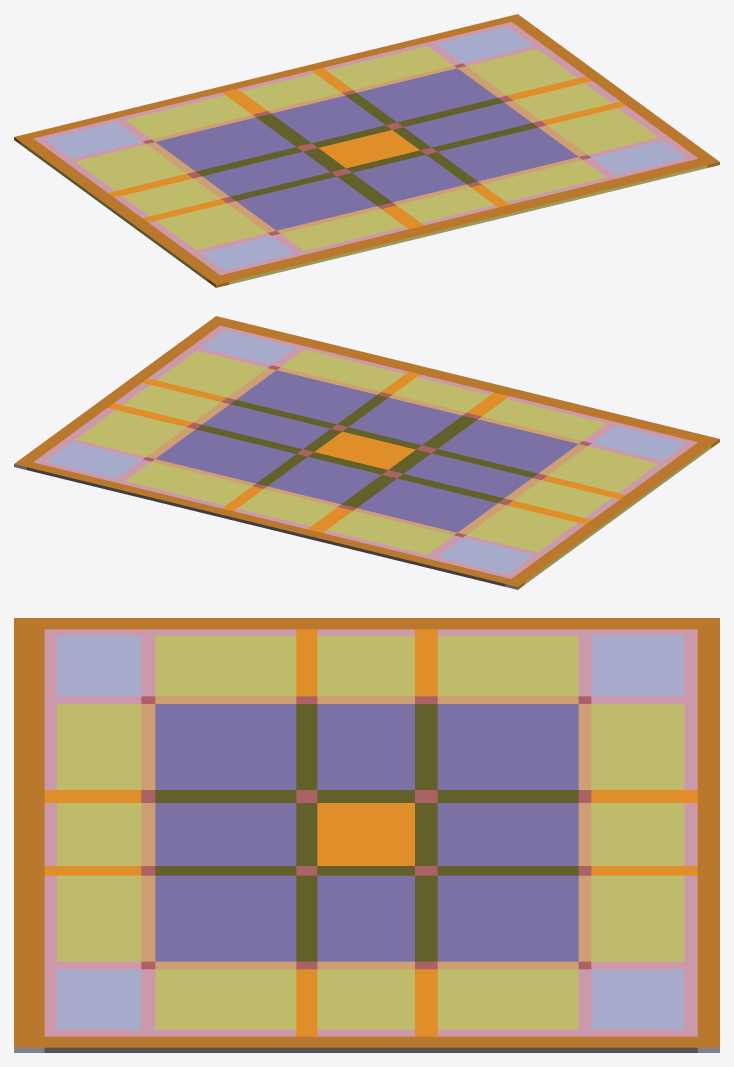
Rendered from carpet.FBX.
3 renders of one model, top to bottom at view 1: azimuth 30°, elevation 25°; view 2: azimuth 150°, elevation 25°; view 3: azimuth 270°, elevation 25°, orthographic. The views are drawn at different scales.
Parts seen in each view (by area): view 1: Box001; view 2: Box001; view 3: Box001.
Boxes of the visible parts, x1=… form: Box001: x1=14, y1=14, x2=719, y2=287; Box001: x1=14, y1=316, x2=719, y2=589; Box001: x1=14, y1=618, x2=719, y2=1052.
Bounding box in the file's own units: 87.08 × 0.5 × 60.5.
Materials: 2 (2 with a texture image).
